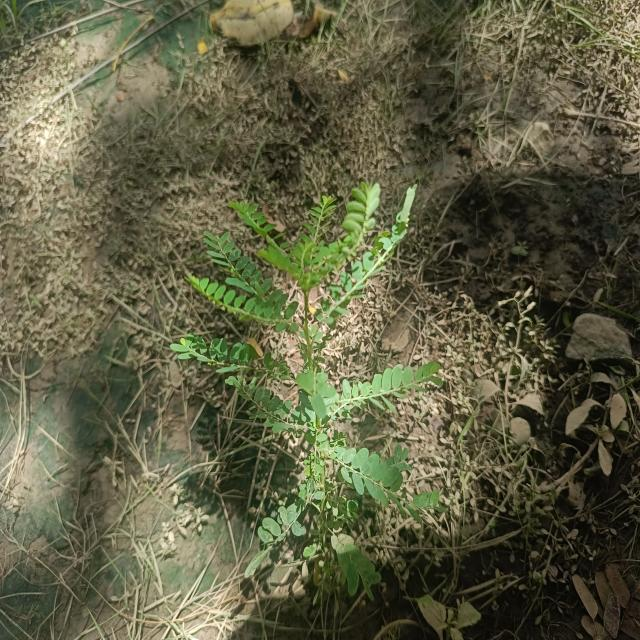weed: (169, 164, 456, 599)
